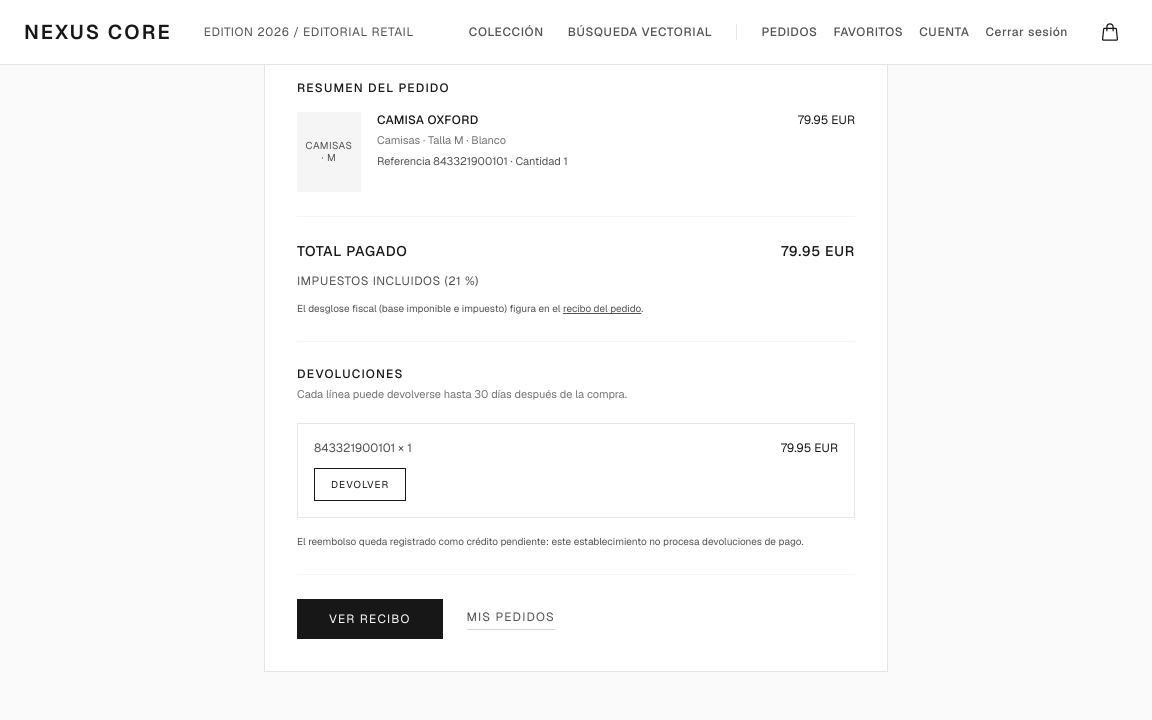
it: OrderDetailPage Component › envía el formulario con el motivo y muestra el estado «Solicitada» con el importe
(page scrolled)
Click the button "Devolver" at (360, 484), box top-left (314, 468), bottom-right (406, 501)
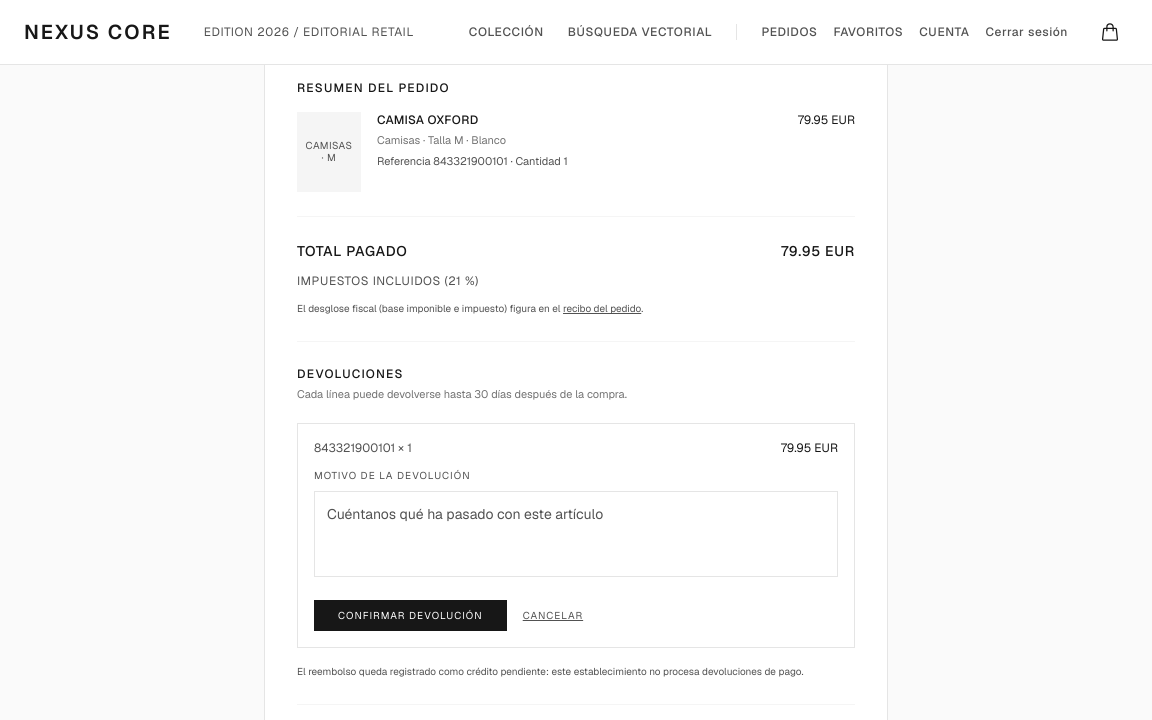
Type "  Talla incorrecta  " into the text box labelled "Motivo de la devolución" at (576, 534), box top-left (314, 491), bottom-right (838, 577)
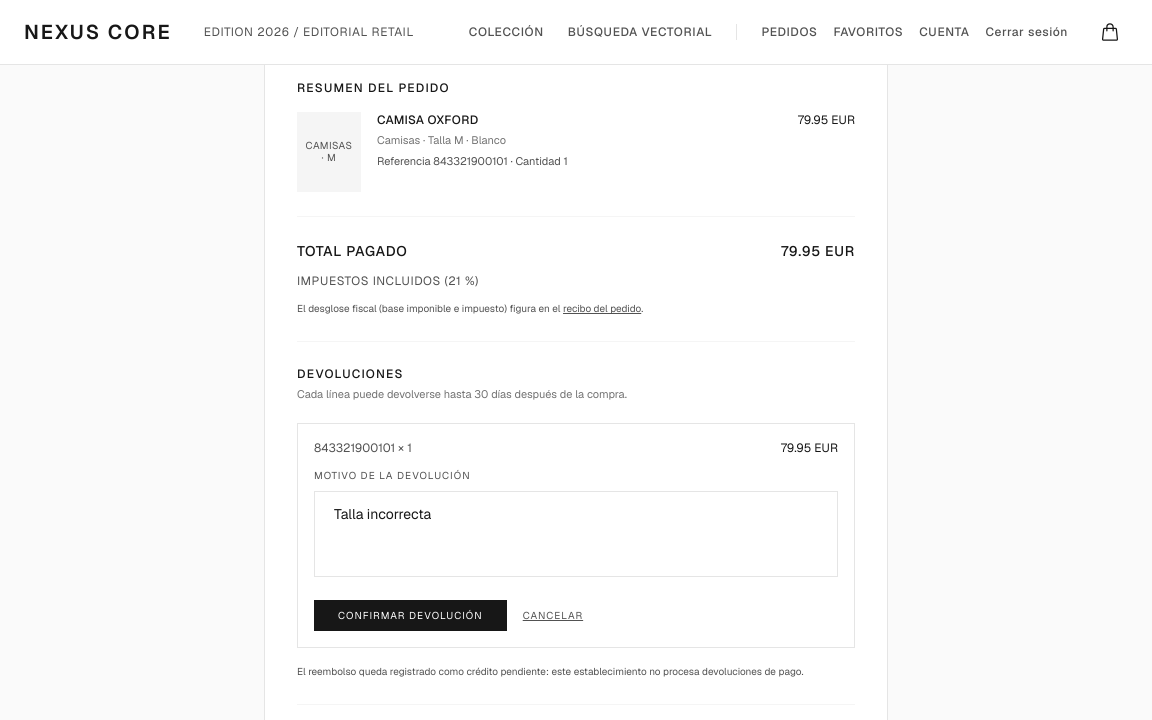
Click the button "Confirmar devolución" at (410, 615), box top-left (314, 600), bottom-right (507, 631)
(page scrolled)
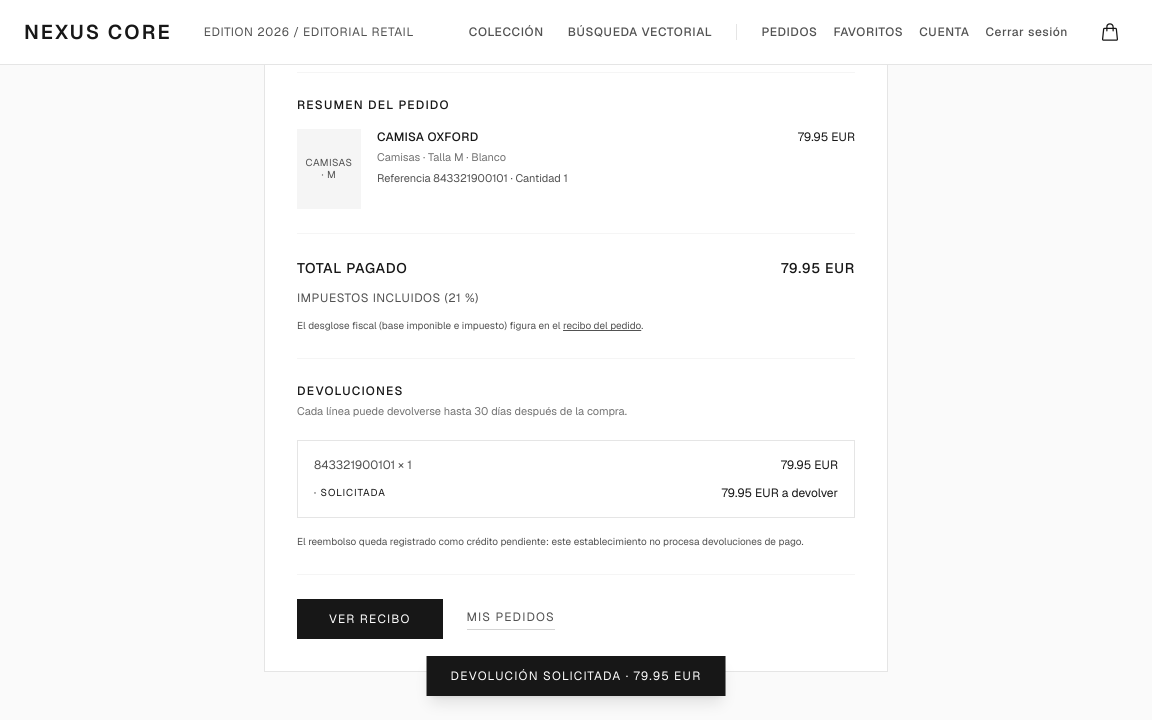
Now the text "· Solicitada" is shown, box top-left (314, 485), bottom-right (386, 500)
Now the text "79.95 EUR a devolver" is shown, box top-left (722, 485), bottom-right (838, 501)
